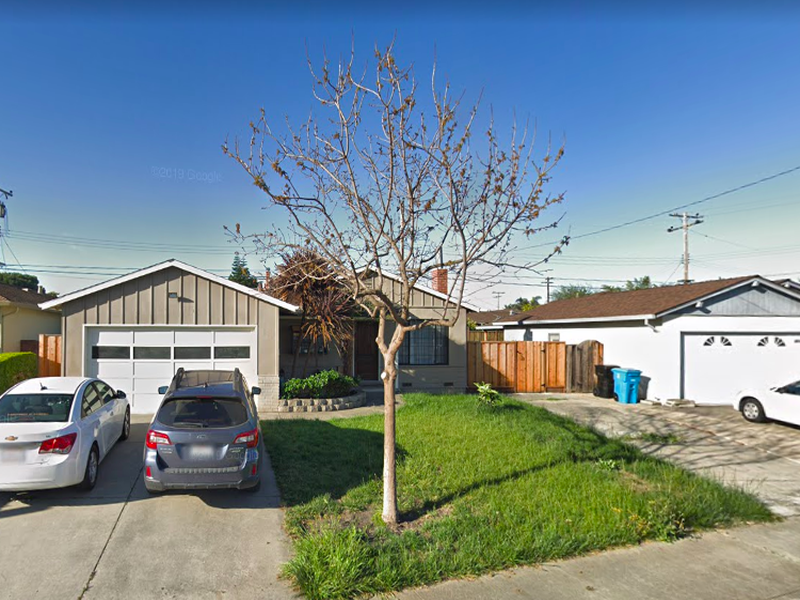tree: (219, 24, 574, 539)
